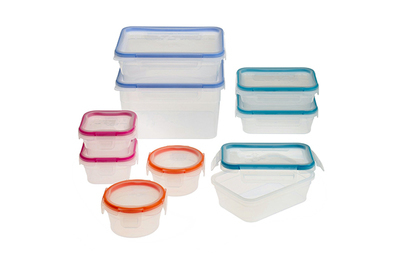PlasticBox: (231, 63, 323, 136), (98, 177, 170, 238)
